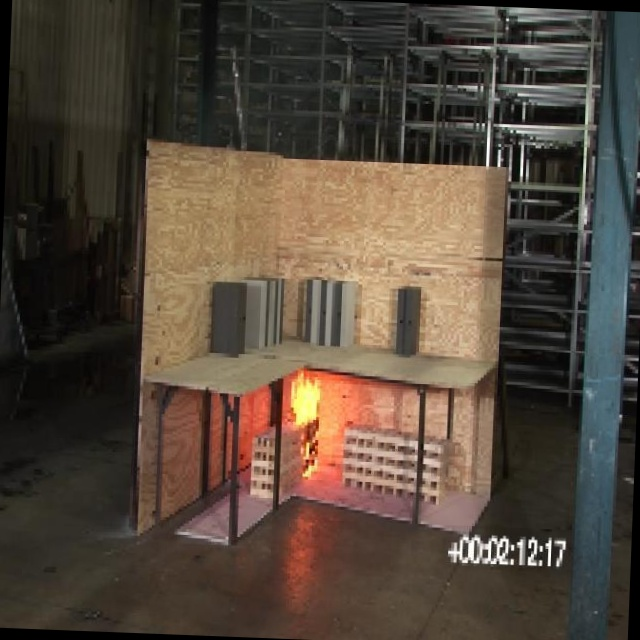fire: (277, 361, 331, 472)
